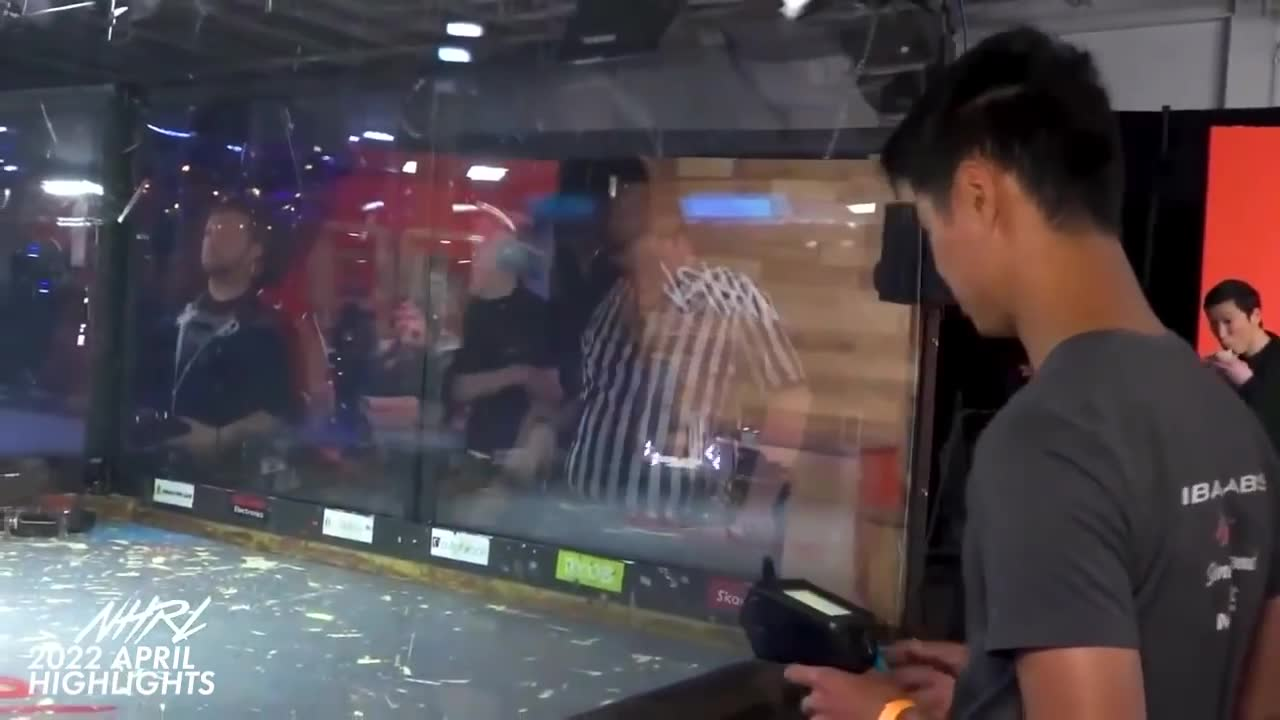combatbot: (3, 502, 96, 537)
